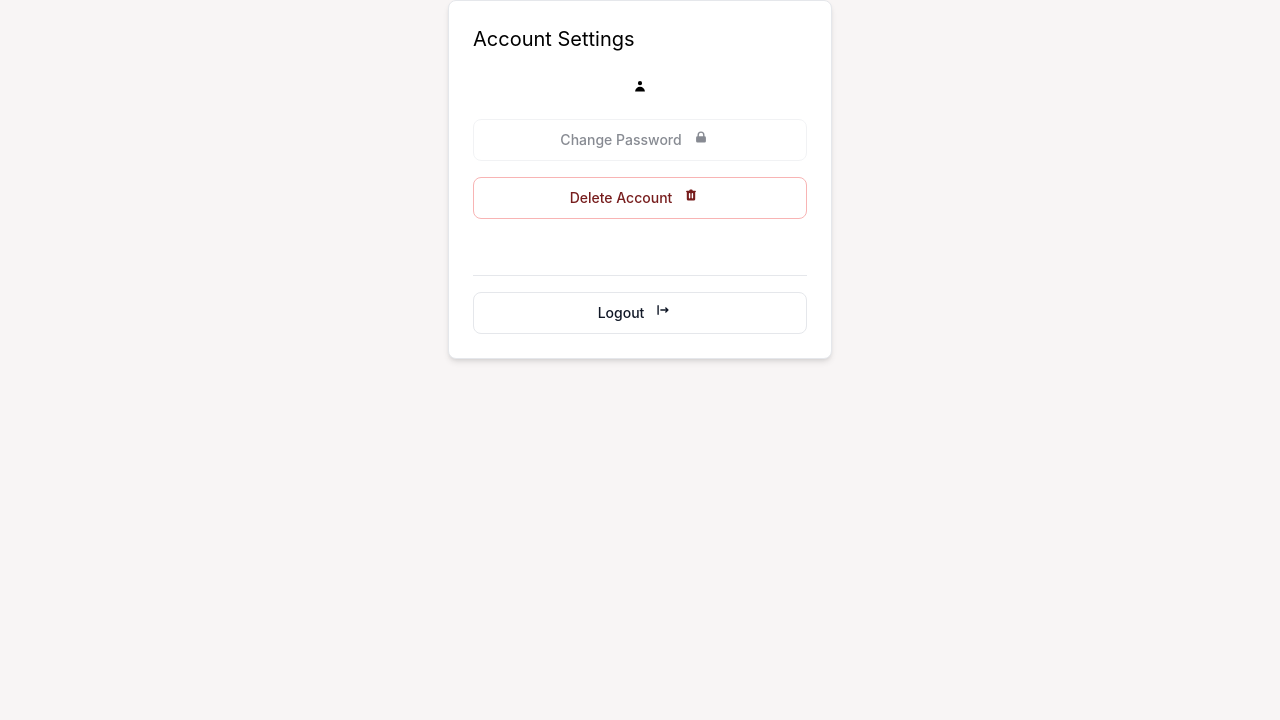
AccountSettings › clicking "Delete Account" button opens modal
The image size is (1280, 720).
Click the button "Delete Account".
click(640, 198)  # box [473,177,807,219]
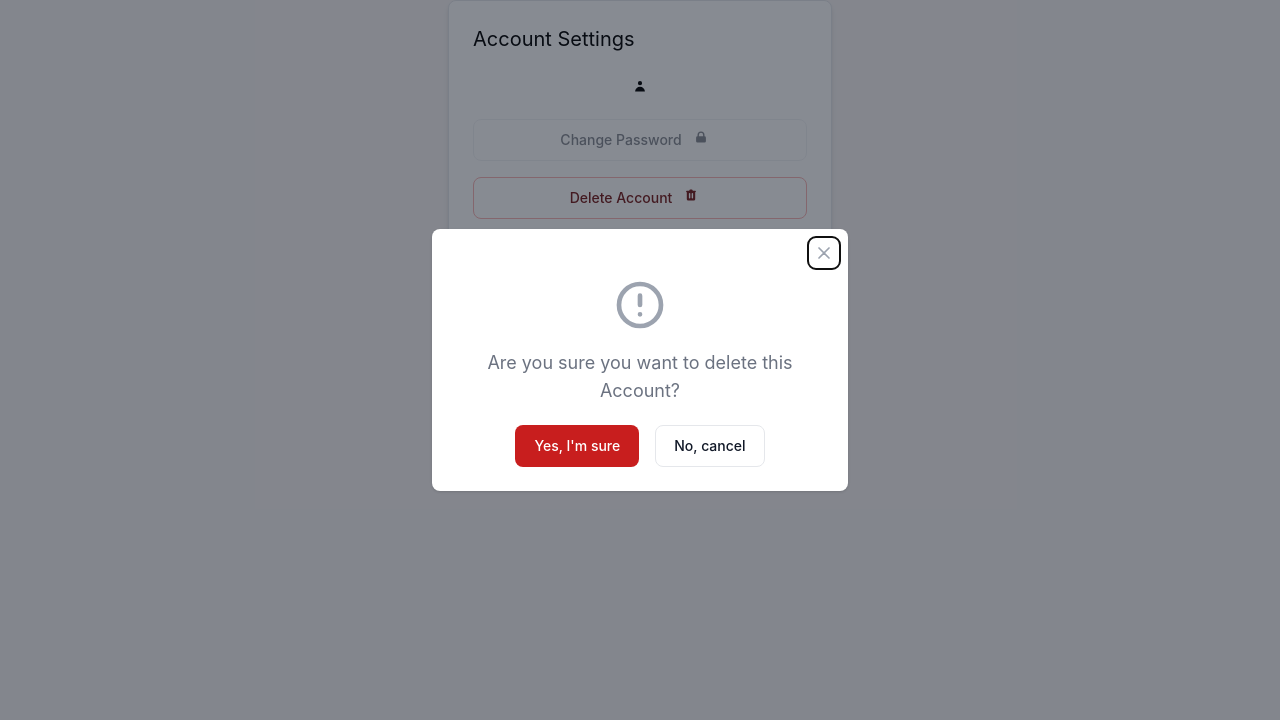
expect the heading "Are you sure you want to delete this Account?" is shown: met, box [487,352,793,401]
